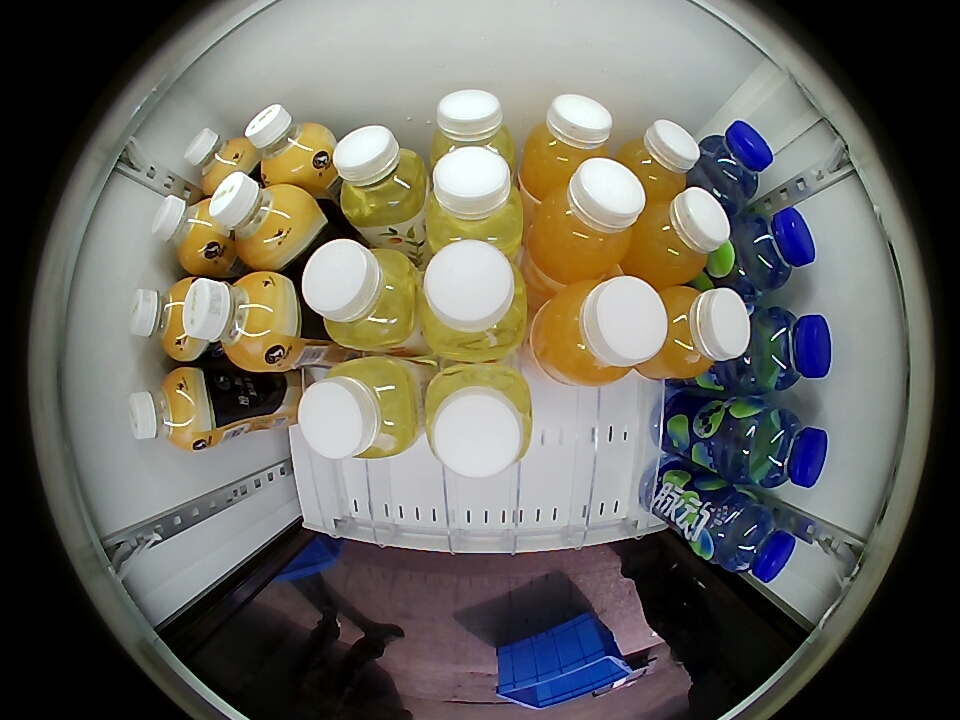asamu: (181, 272, 289, 367), (206, 173, 314, 263), (245, 104, 331, 181), (127, 369, 207, 450), (129, 278, 203, 361), (151, 194, 226, 269), (183, 129, 252, 192)
chapai2: (419, 239, 526, 361), (298, 356, 422, 461), (302, 240, 420, 350), (424, 364, 534, 479), (426, 145, 524, 255), (333, 125, 429, 228), (431, 90, 516, 170)
maidong: (722, 406, 829, 490), (703, 491, 798, 582), (729, 208, 816, 296), (744, 307, 832, 392), (695, 121, 775, 206)
weic: (530, 275, 667, 387), (526, 158, 645, 281), (638, 284, 752, 381), (622, 188, 732, 285), (521, 94, 614, 197), (614, 120, 701, 201)
